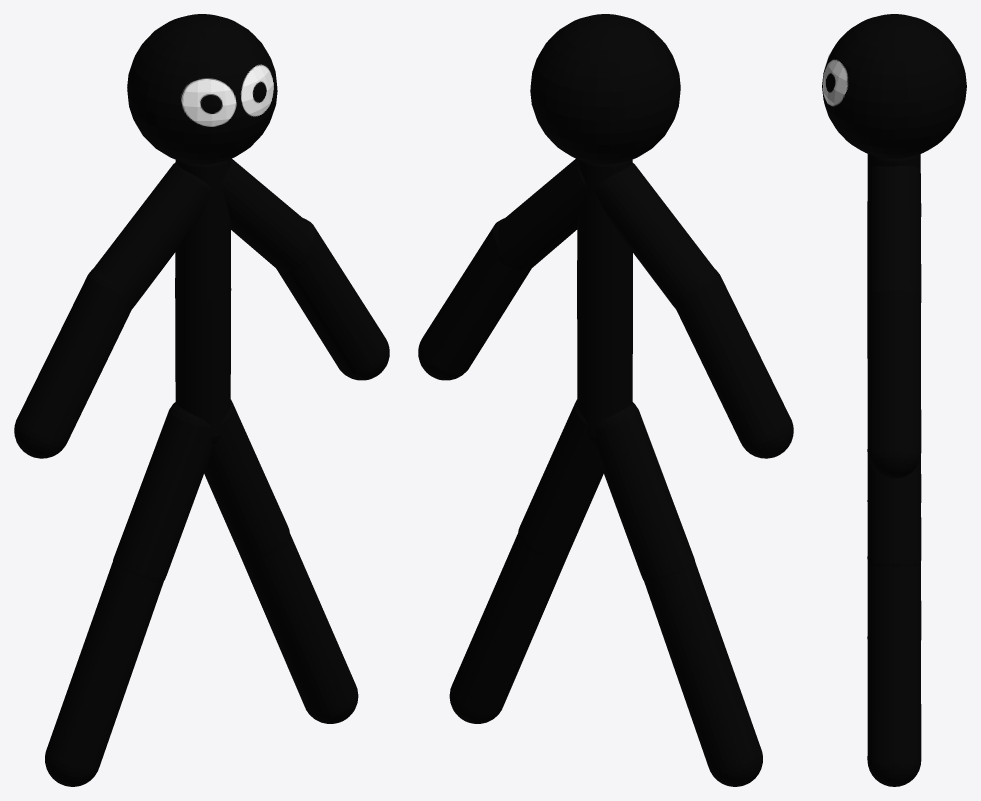
Rendered from stickman.gltf.
3 renders of one model, left to right at view 1: azimuth 30°, elevation 25°; view 2: azimuth 150°, elevation 25°; view 3: azimuth 270°, elevation 25°, orthographic. The views are drawn at different scales.
Size of the model in its own units: 1.01 by 1.92 by 0.358.
1 material, 1 textured.
